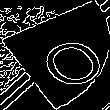O_NW: (12, 22, 98, 88)
